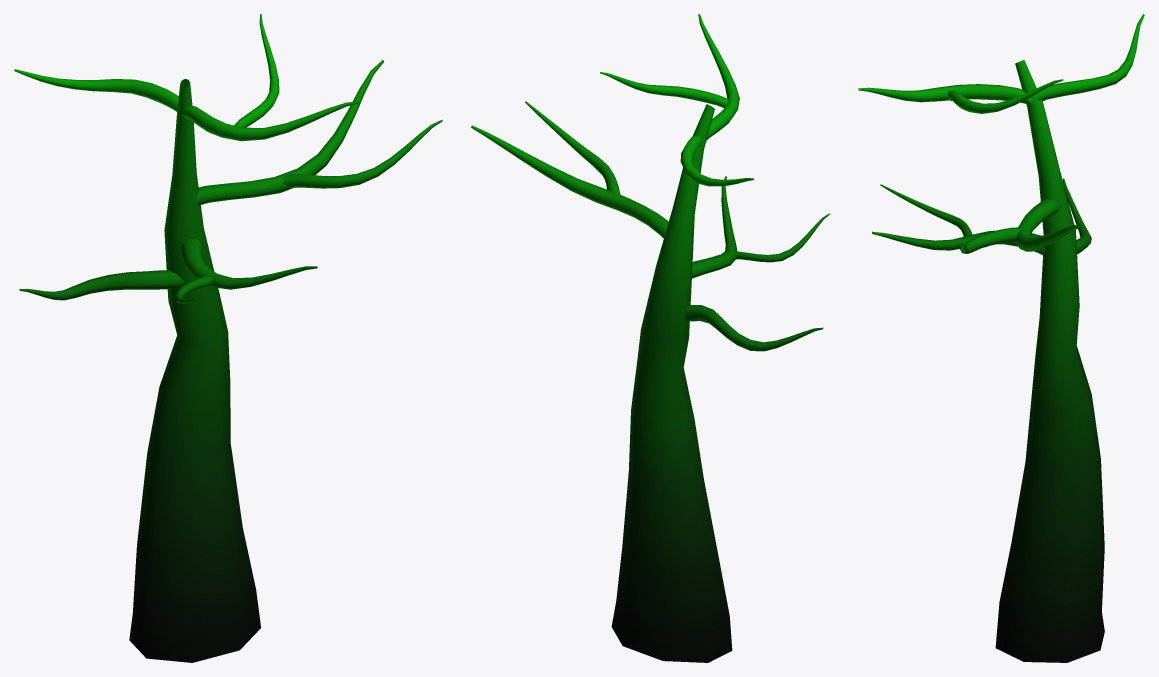
Rendered from TreeTrunk.fbx.
3 renders of one model, left to right at view 1: azimuth 30°, elevation 25°; view 2: azimuth 150°, elevation 25°; view 3: azimuth 270°, elevation 25°, orthographic. The views are drawn at different scales.
Parts seen in each view (by area): view 1: attribwrangle2; view 2: attribwrangle2; view 3: attribwrangle2.
Part boxes in pixels (<box>): attribwrangle2: <box>14,14,442,662</box>; attribwrangle2: <box>471,14,829,662</box>; attribwrangle2: <box>858,14,1144,662</box>.
Size of the model in its own units: 811 by 1256 by 543.
